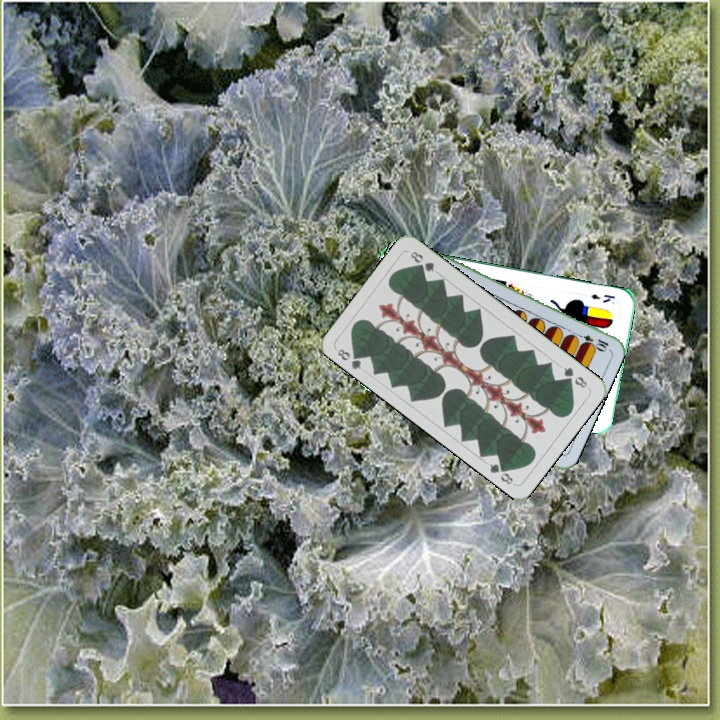E10: (571, 329, 611, 353)
EK: (587, 290, 618, 305)
G8: (560, 363, 591, 391), (333, 345, 365, 372)
